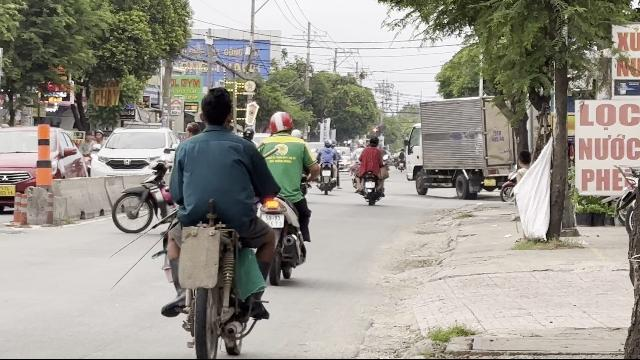helmet: (267, 112, 293, 134)
licenseplate: (262, 213, 284, 227)
motorcyclist: (152, 85, 280, 358), (254, 110, 316, 282)
nohelmet: (198, 87, 235, 130)
